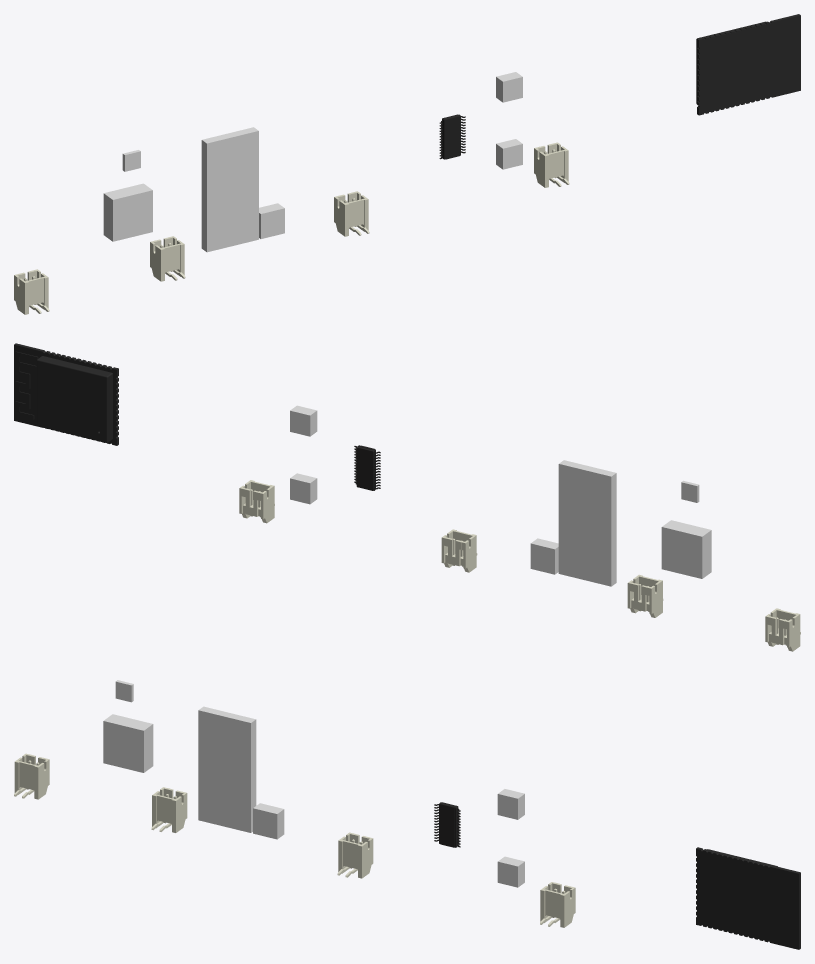
File: pcb_parts.glb
3 views of the same model, one above another, from view 1: azimuth 30°, elevation 25°; view 2: azimuth 150°, elevation 25°; view 3: azimuth 330°, elevation 25° (orthographic).
Parts seen in each view (by area): view 1: ESP32-S3-WROOM-1, object 8, JST_S2B_PH_K (×4), object 3, HTSSOP-28-1EP_4_4x9_7mm_P0_65mm_EP3_4x9_5mm, object 4, object 5, object 6; view 2: ESP32-S3-WROOM-1, object 8, JST_S2B_PH_K (×4), object 3, HTSSOP-28-1EP_4_4x9_7mm_P0_65mm_EP3_4x9_5mm, object 4, object 5, object 6; view 3: ESP32-S3-WROOM-1, object 8, JST_S2B_PH_K (×4), object 3, HTSSOP-28-1EP_4_4x9_7mm_P0_65mm_EP3_4x9_5mm, object 4, object 5, object 6.
Part boxes in pixels (x1,y1,x2,y2): ESP32-S3-WROOM-1: (696,14,800,115); object 8: (201,127,258,252); JST_S2B_PH_K (×4): (14,142,569,314); object 3: (103,183,152,241); HTSSOP-28-1EP_4_4x9_7mm_P0_65mm_EP3_4x9_5mm: (439,114,465,159); object 4: (259,203,284,238); object 5: (496,139,522,169); object 6: (496,72,522,102); ESP32-S3-WROOM-1: (14,343,118,445); object 8: (558,460,616,586); JST_S2B_PH_K (×4): (239,480,800,651); object 3: (661,520,711,578); HTSSOP-28-1EP_4_4x9_7mm_P0_65mm_EP3_4x9_5mm: (354,445,380,490); object 4: (530,538,558,574); object 5: (290,473,317,504); object 6: (290,405,317,436); ESP32-S3-WROOM-1: (696,847,800,949); object 8: (198,706,256,832); JST_S2B_PH_K (×4): (14,753,575,927); object 3: (103,714,153,772); HTSSOP-28-1EP_4_4x9_7mm_P0_65mm_EP3_4x9_5mm: (434,802,460,847); object 4: (253,803,284,839); object 5: (497,856,524,887); object 6: (497,789,524,819).
Size of the model in its own units: 0.1939 by 0.0324 by 0.00825.
